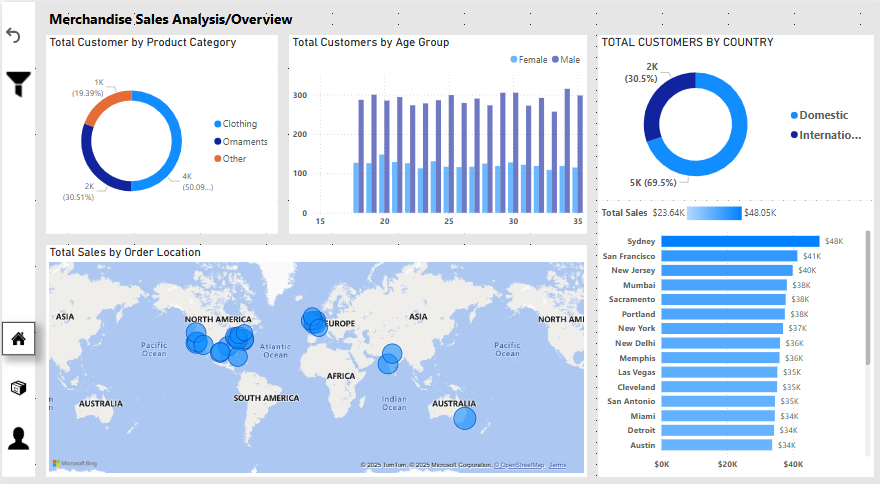

Layout of this report page (visuals, bound fields, positions):
{"tool":"powerbi","page":{"name":"Customer Page","canvas":[1280,720],"ordinal":2},"visuals":[{"type":"textbox","box":[0,0,48,688],"z":0,"group":"g2"},{"type":"shape","box":[64,0,1200,48],"z":0},{"type":"donutChart","title":"TOTAL CUSTOMERS BY COUNTRY","fields":{"Category":["Shipping Data.Shipping Details"],"Y":["Measure DAX.Customercount"]},"box":[864,48,400,240],"z":0,"group":"g1"},{"type":"donutChart","title":"Total Customer by Product Category","fields":{"Category":["Product Data.Product Category"],"Y":["Measure DAX.Customercount"]},"box":[64,48,336,288],"z":1000},{"type":"barChart","fields":{"Y":["Measure DAX.Total Sales"],"Category":["Location Data.Order Location"]},"box":[864,288,400,400],"z":1000,"group":"g1"},{"type":"image","box":[0,464,48,48],"z":1000,"group":"g2"},{"type":"clusteredColumnChart","title":"Total Customers by Age Group","fields":{"Category":["Buyer Data.Buyer Age"],"Y":["Measure DAX.Customercount"],"Series":["Buyer Data.Buyer Gender"]},"box":[416,48,432,288],"z":2000},{"type":"image","box":[0,544,48,32],"z":2000,"group":"g2"},{"type":"actionButton","box":[0,112,48,48],"z":3000},{"type":"image","box":[0,608,48,48],"z":3000,"group":"g2"},{"type":"group","id":"g1","title":"Group 1","box":[864,48,400,640],"z":4000},{"type":"map","title":"Total Sales by Order Location","fields":{"Category":["Location Data.Order Location"],"Y":["Avg(Location Data.Latitude)"],"X":["Avg(Location Data.Longitude)"],"Size":["Measure DAX.Total Sales"]},"box":[64,352,784,336],"z":5000},{"type":"group","id":"g2","title":"Navigation background","box":[0,0,48,688],"z":6000},{"type":"actionButton","box":[0,32,48,32],"z":7000},{"type":"actionButton","box":[0,96,48,48],"z":8000}]}

Visuals, with their boxes on the page's 1280x720 design canvas (x1, y1, x2, y2). These are canvas units, not pixel positions in the 880x484 screenshot, which may show the page scaled, cropped or inside an application window:
textbox: {"left": 0, "top": 0, "right": 48, "bottom": 688}
shape: {"left": 64, "top": 0, "right": 1264, "bottom": 48}
"TOTAL CUSTOMERS BY COUNTRY" donutChart: {"left": 864, "top": 48, "right": 1264, "bottom": 288}
"Total Customer by Product Category" donutChart: {"left": 64, "top": 48, "right": 400, "bottom": 336}
barChart - Measure DAX.Total Sales x Location Data.Order Location: {"left": 864, "top": 288, "right": 1264, "bottom": 688}
image: {"left": 0, "top": 464, "right": 48, "bottom": 512}
"Total Customers by Age Group" clusteredColumnChart: {"left": 416, "top": 48, "right": 848, "bottom": 336}
image: {"left": 0, "top": 544, "right": 48, "bottom": 576}
actionButton: {"left": 0, "top": 112, "right": 48, "bottom": 160}
image: {"left": 0, "top": 608, "right": 48, "bottom": 656}
"Group 1" group: {"left": 864, "top": 48, "right": 1264, "bottom": 688}
"Total Sales by Order Location" map: {"left": 64, "top": 352, "right": 848, "bottom": 688}
"Navigation background" group: {"left": 0, "top": 0, "right": 48, "bottom": 688}
actionButton: {"left": 0, "top": 32, "right": 48, "bottom": 64}
actionButton: {"left": 0, "top": 96, "right": 48, "bottom": 144}
